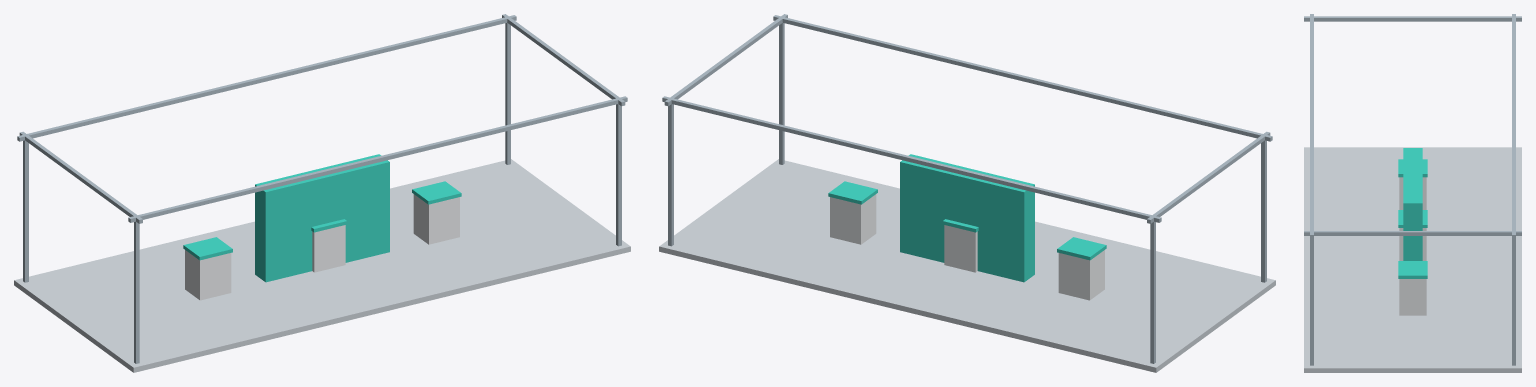
3 renders of one model, left to right at view 1: azimuth 30°, elevation 25°; view 2: azimuth 150°, elevation 25°; view 3: azimuth 270°, elevation 25°, orthographic. The views are drawn at different scales.
Visible parts, largest first — view 1: Exhibition Booth Concept; view 2: Exhibition Booth Concept; view 3: Exhibition Booth Concept.
Boxes of the visible parts, x1,y1,x2,y2 form: Exhibition Booth Concept: (14, 14, 630, 372); Exhibition Booth Concept: (659, 14, 1275, 372); Exhibition Booth Concept: (1304, 14, 1521, 372).
Bounding box in the file's own units: 12 × 3.49 × 5.
